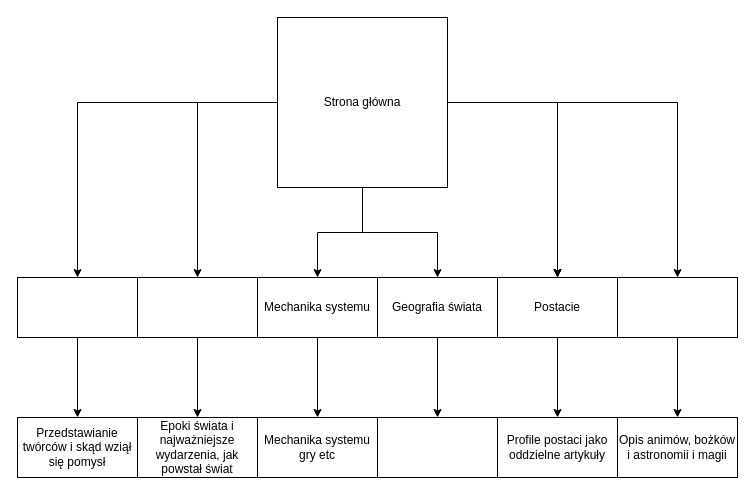
This 755x495 diagram has some shape labels left out. Each missing label, with the box of its shape:
Działanie świata: (616, 276, 738, 338)
Historia: (136, 276, 258, 338)
O nas: (16, 276, 138, 338)
Zdjęcie mapy i opisy miejsc: (376, 416, 498, 478)
